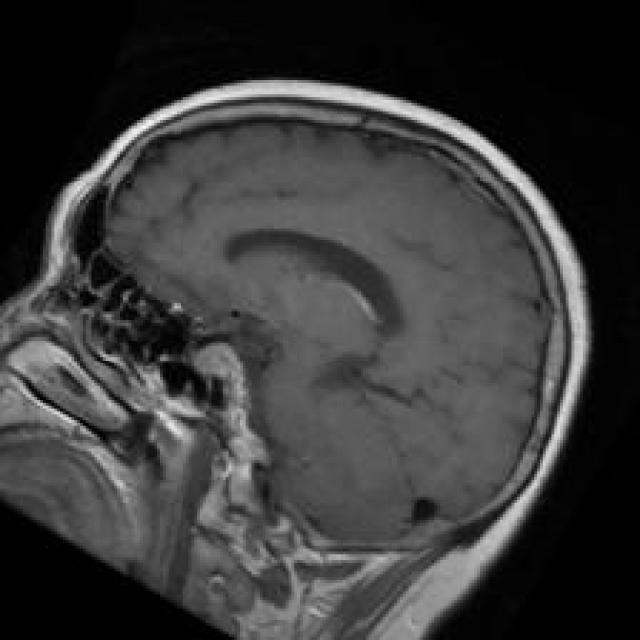pituitary_tumor: (173, 327, 274, 436)
